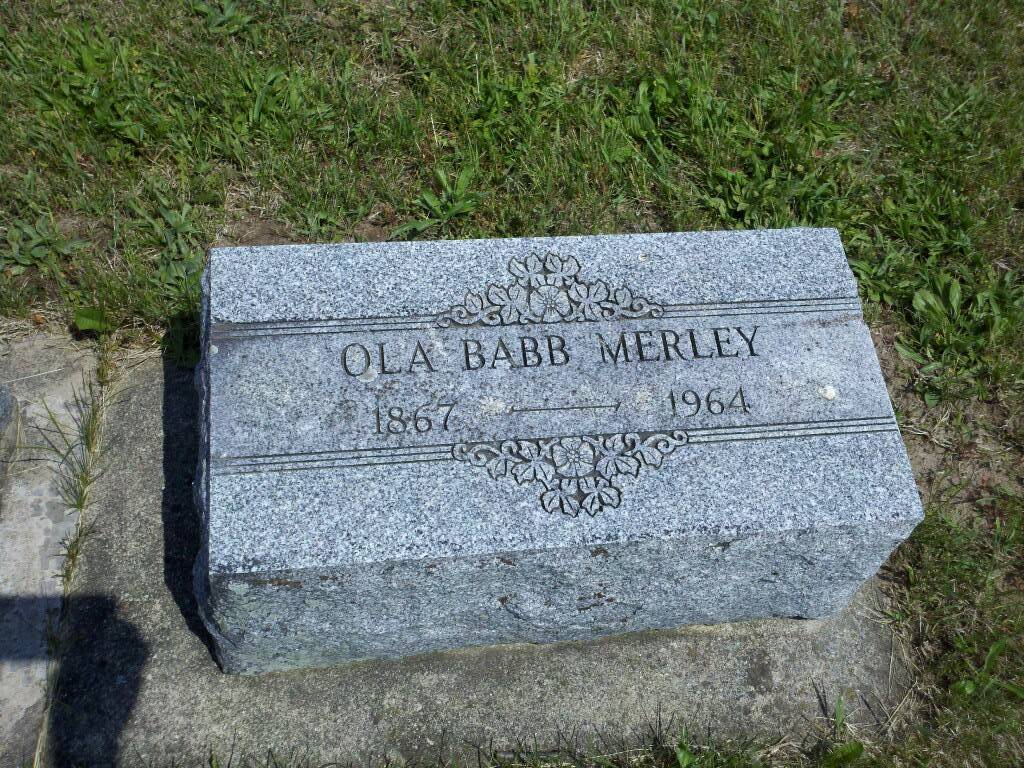flat: (185, 220, 927, 669)
